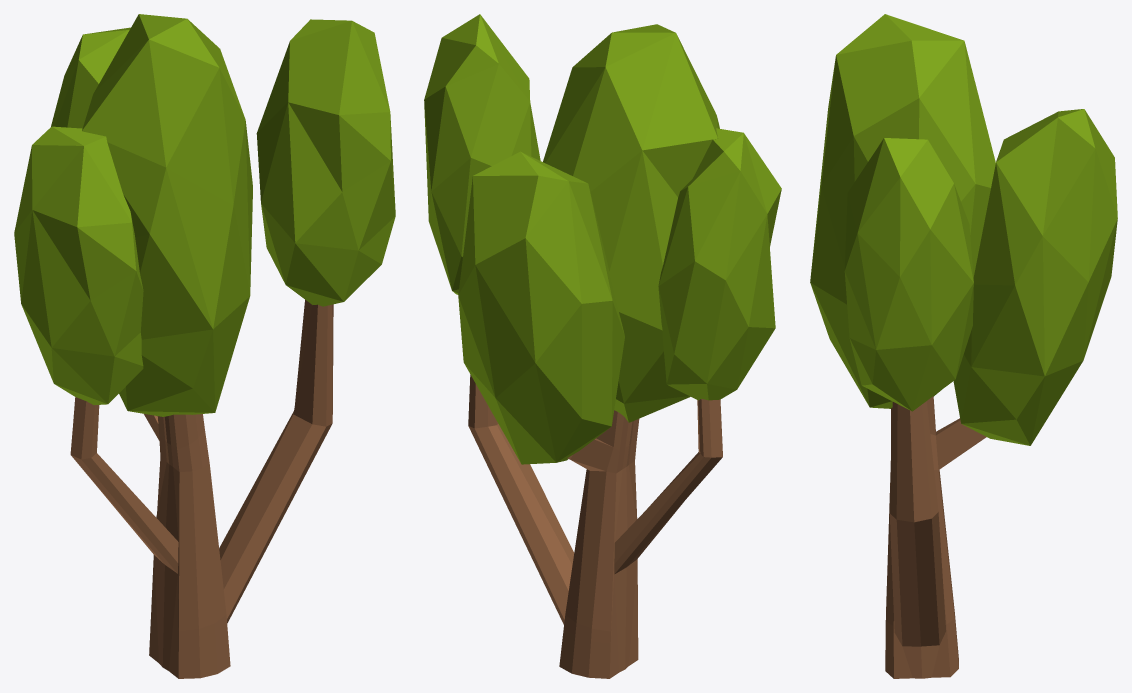
File: tree-summer-complete-13-056.glb
3 renders of one model, left to right at view 1: azimuth 30°, elevation 25°; view 2: azimuth 150°, elevation 25°; view 3: azimuth 270°, elevation 25°, orthographic. The views are drawn at different scales.
Visible parts, largest first — view 1: TREE 13_286, TREE 13.001_287; view 2: TREE 13_286, TREE 13.001_287; view 3: TREE 13_286, TREE 13.001_287.
Part boxes in pixels (box(x1,y1,x2,y2)): TREE 13_286: box(14, 14, 395, 416); TREE 13.001_287: box(70, 300, 333, 678); TREE 13_286: box(424, 14, 781, 464); TREE 13.001_287: box(468, 374, 722, 678); TREE 13_286: box(810, 14, 1117, 445); TREE 13.001_287: box(885, 396, 986, 678).
Bounding box in the file's own units: 0.9813 × 1.74 × 0.7767.
